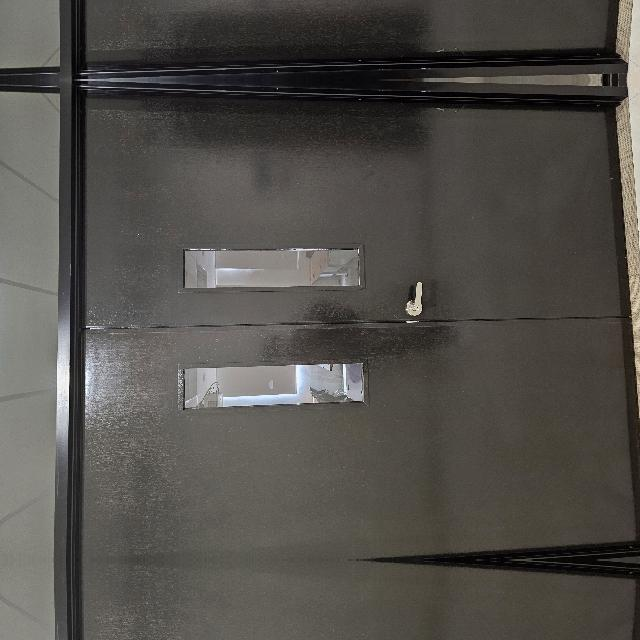door: (2, 144, 480, 640), (2, 404, 480, 640), (2, 0, 480, 15)
